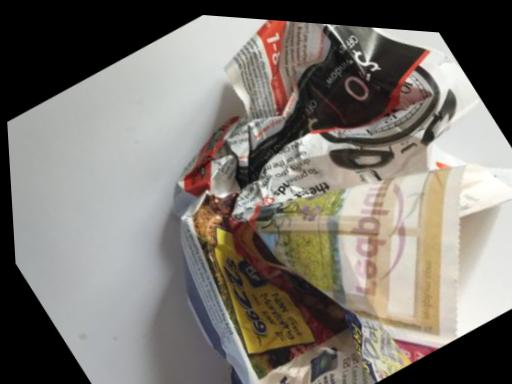paper: (1, 1, 511, 383)
